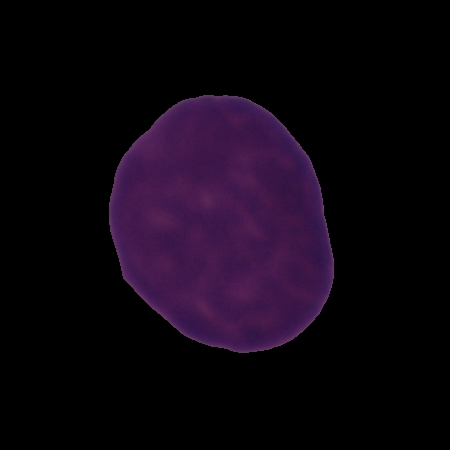HEM: (105, 91, 339, 355)
